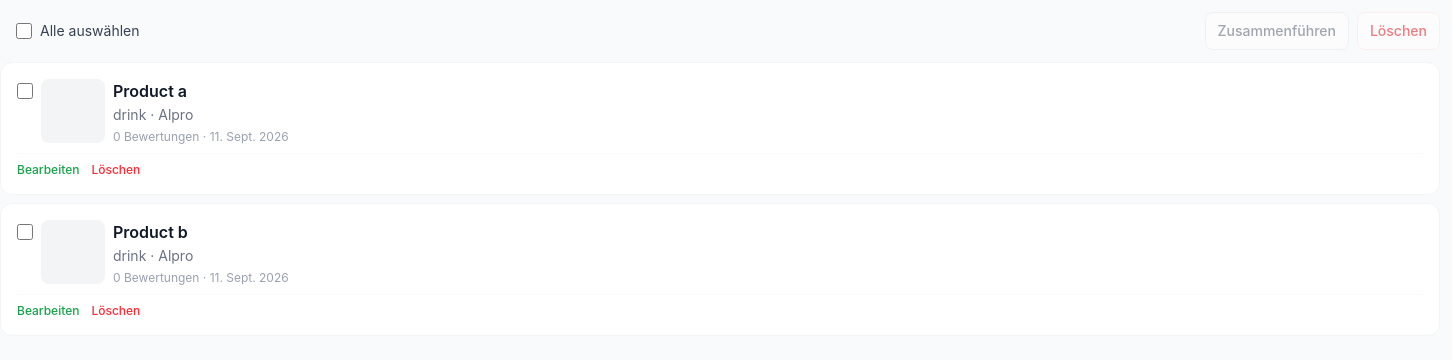
Test: AdminProductList › when selecting all products › selects every product
The width and height of the screenshot is (1452, 360).
Click the checkbox named "Alle Produkte auswählen".
click(24, 31)  # box [16,23,32,39]
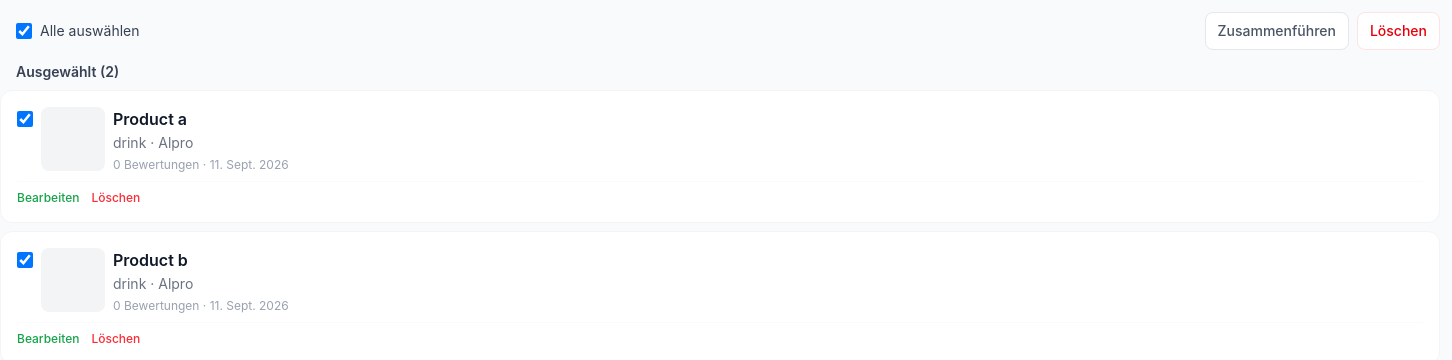
Result: the checkbox named "Product a auswählen" is checked at [17,111,33,127]
Result: the checkbox named "Product b auswählen" is checked at [17,252,33,268]
